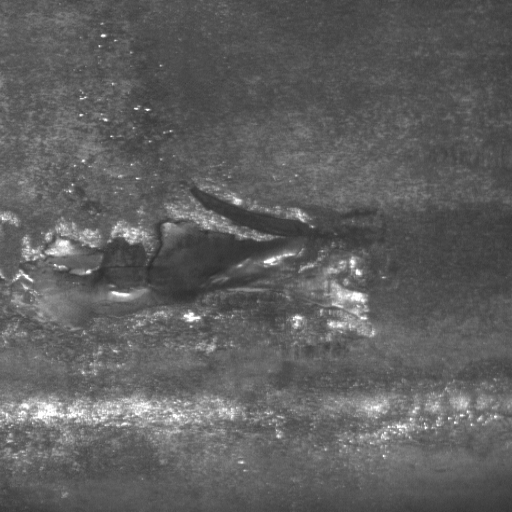qiaopi: (1, 184, 380, 348)
